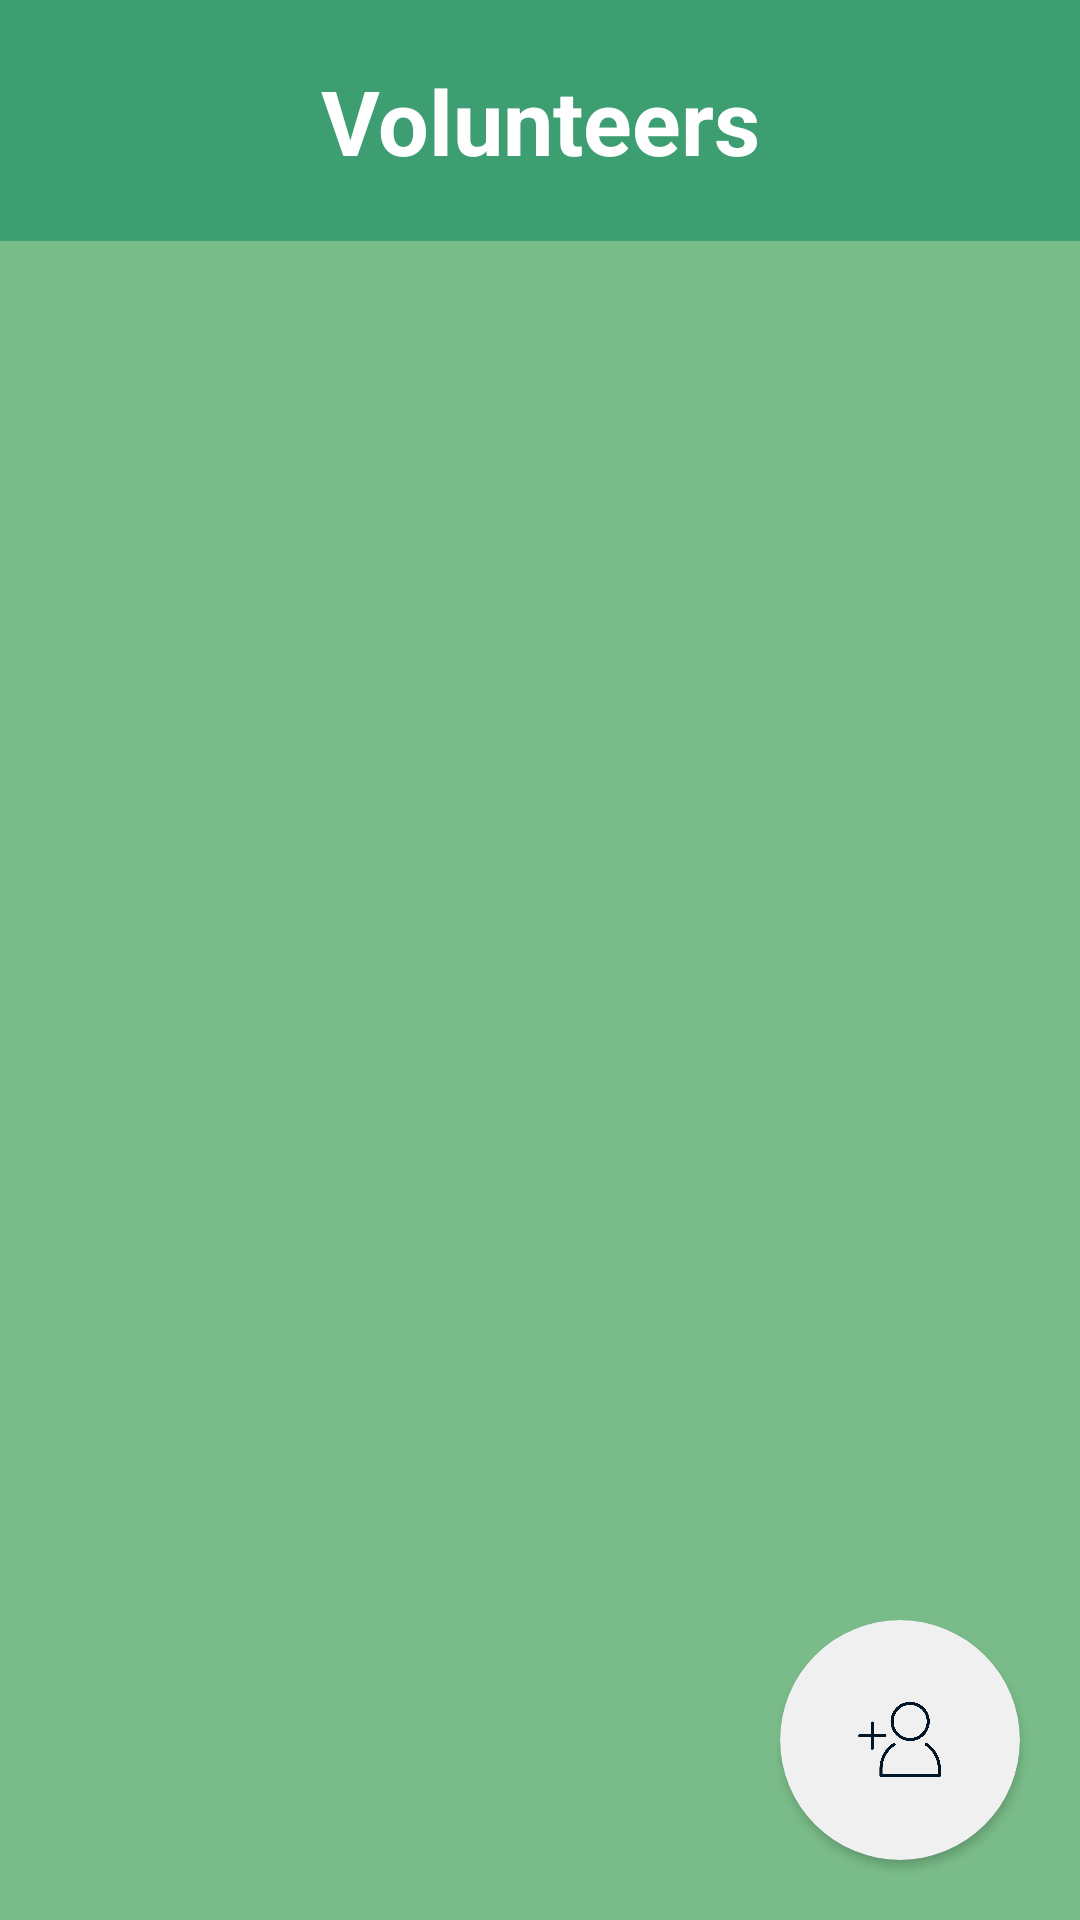

Where to tap for icons on this 1080w x 1920h app screen, as [x,y]:
add volunteer: [899,1739]
